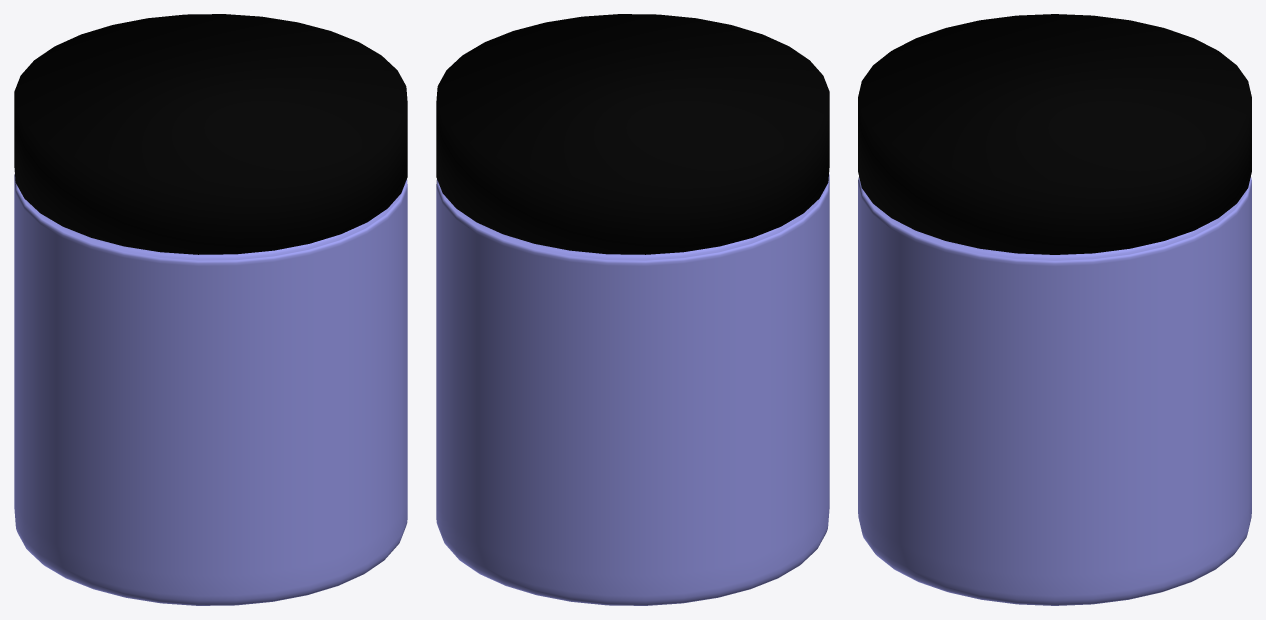
Rendered from MediumBottle.fbx.
The picture shows the model from 3 angles, left to right: view 1: azimuth 30°, elevation 25°; view 2: azimuth 150°, elevation 25°; view 3: azimuth 270°, elevation 25°; orthographic projection.
Parts seen in each view (by area): view 1: Cylinder.124; view 2: Cylinder.124; view 3: Cylinder.124.
Boxes of the visible parts, x1=… form: Cylinder.124: x1=14, y1=14, x2=407, y2=605; Cylinder.124: x1=436, y1=14, x2=829, y2=605; Cylinder.124: x1=858, y1=14, x2=1251, y2=605.
Bounding box in the file's own units: 7.95 × 9.53 × 7.95.
